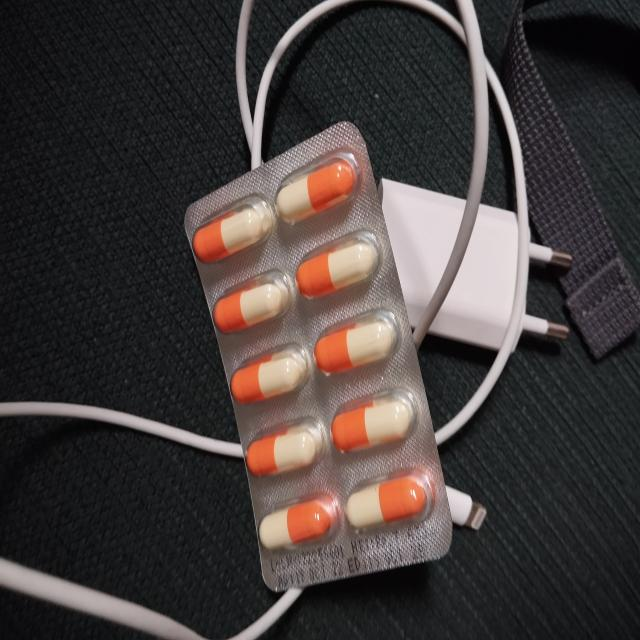B3: (183, 119, 453, 591)
